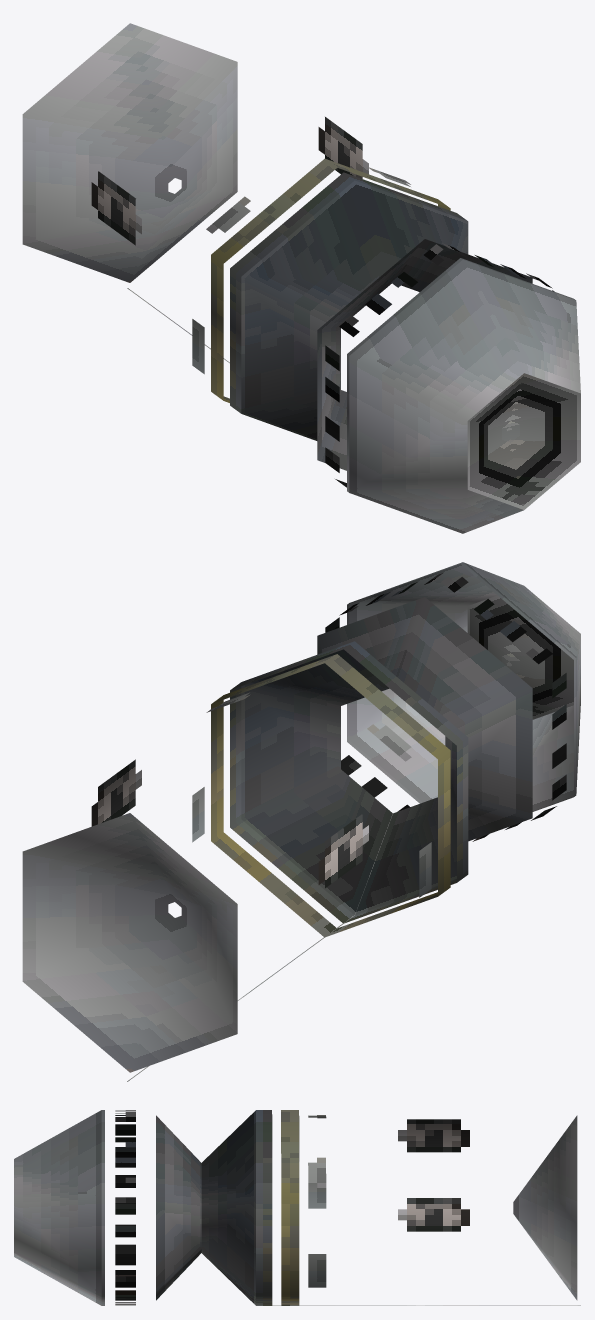
The model's file is ship_component_reactor_s01_l3.fbx.
The picture shows the model from 3 angles, top to bottom: view 1: azimuth 30°, elevation 25°; view 2: azimuth 150°, elevation 25°; view 3: azimuth 270°, elevation 25°; orthographic projection. The views are drawn at different scales.
Parts seen in each view (by area): view 1: mesh_node; view 2: mesh_node; view 3: mesh_node.
Part boxes in pixels (x1,y1,x2,y2): mesh_node: (22, 23, 580, 533); mesh_node: (22, 562, 580, 1081); mesh_node: (14, 1110, 580, 1305).
Bounding box in the file's own units: 0.7816 × 0.9025 × 2.37.
Materials: 1 (1 with a texture image).
